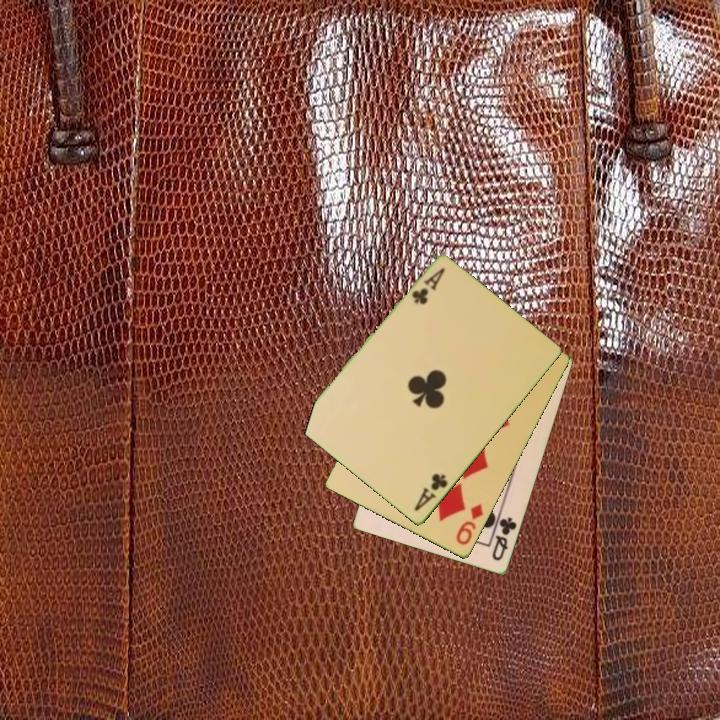9d: (453, 500, 486, 549)
Ac: (410, 470, 451, 514), (408, 264, 448, 308)
Qc: (489, 510, 520, 564)
